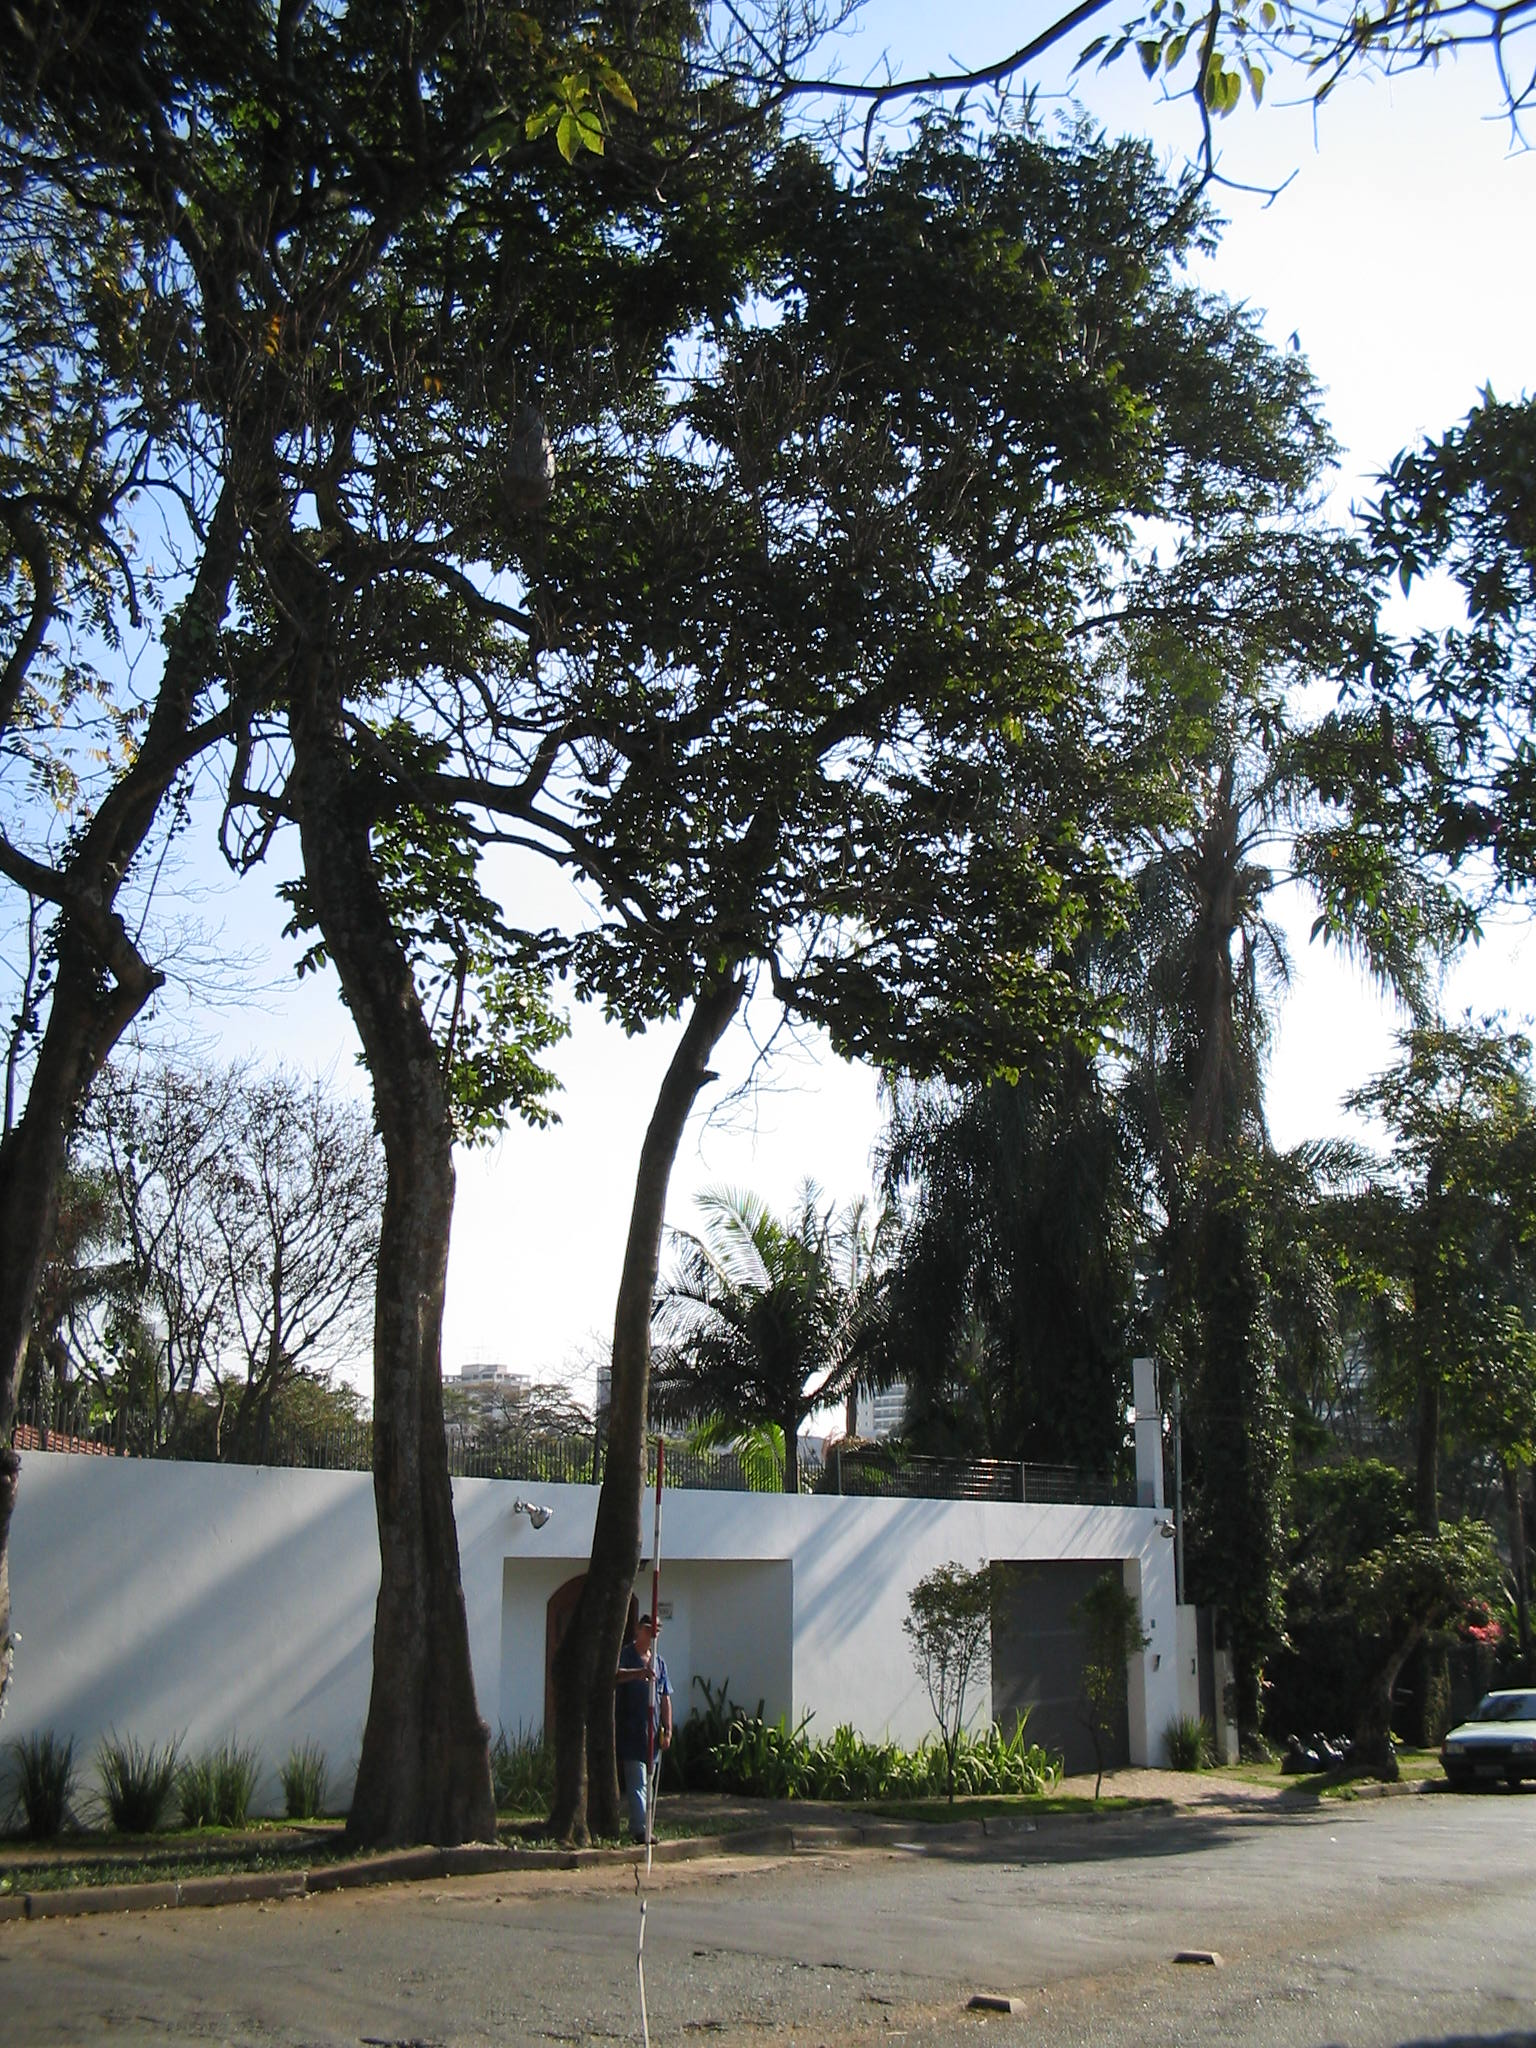crown: (499, 111, 1370, 1095)
stem: (278, 821, 532, 1842), (545, 1026, 753, 1846)
stick: (641, 1442, 679, 1843)
tree: (489, 105, 1378, 1846)
